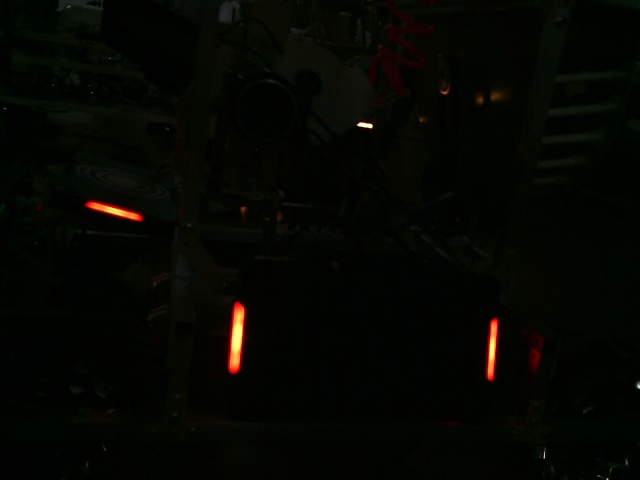lamp: (483, 317, 503, 382), (229, 301, 246, 377)
